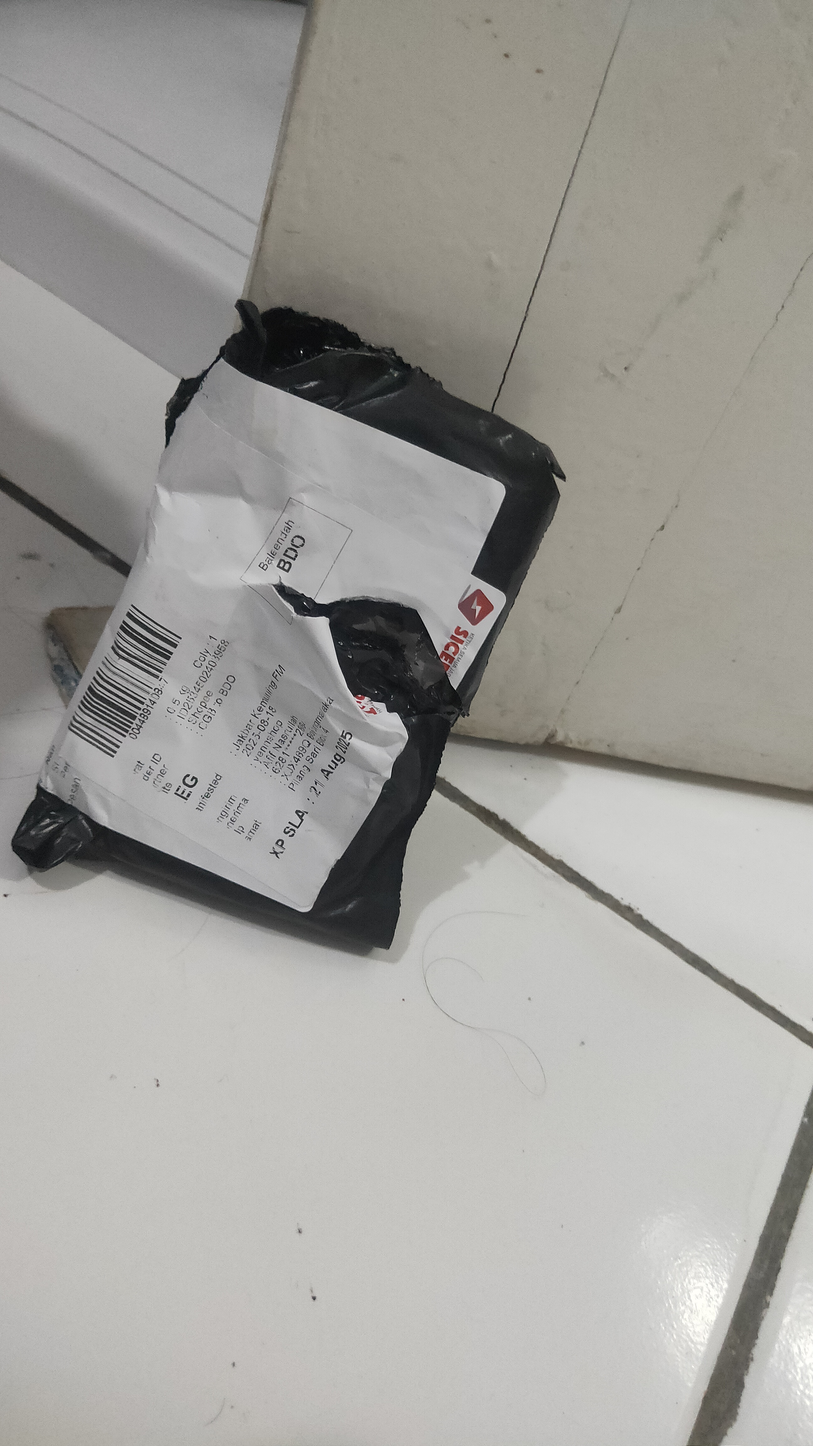damaged package: (158, 308, 417, 442), (254, 582, 468, 730)
undamaged: (18, 300, 563, 954)
